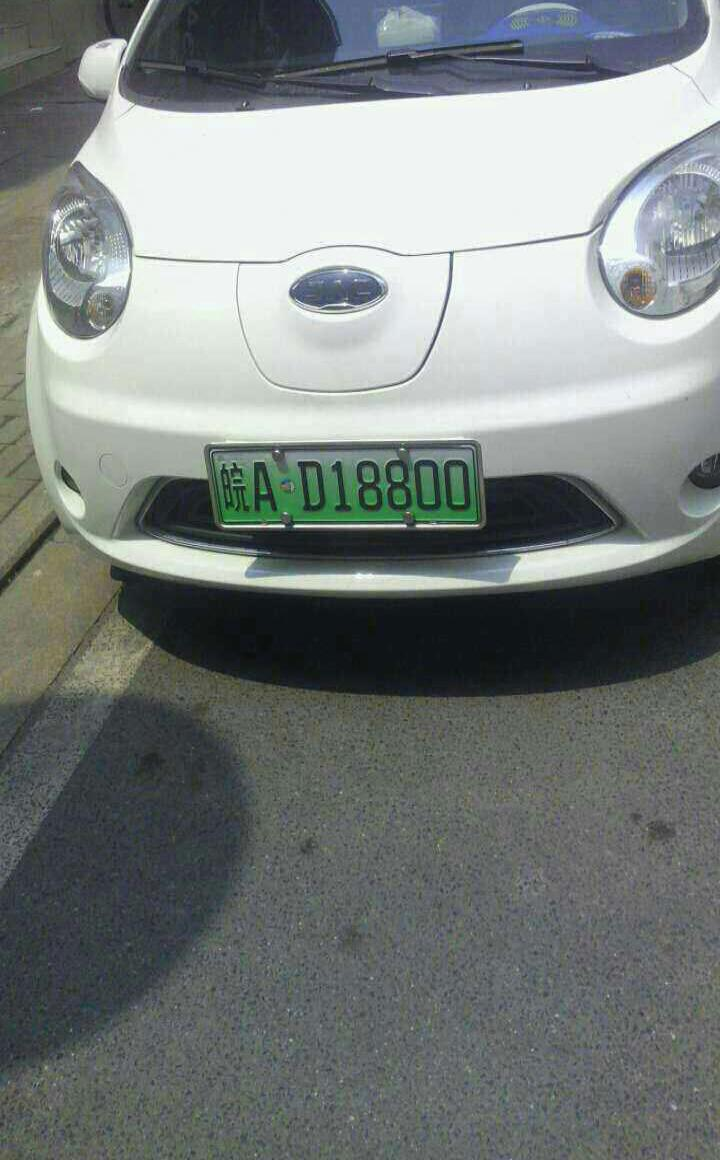car: (203, 439, 491, 532)
